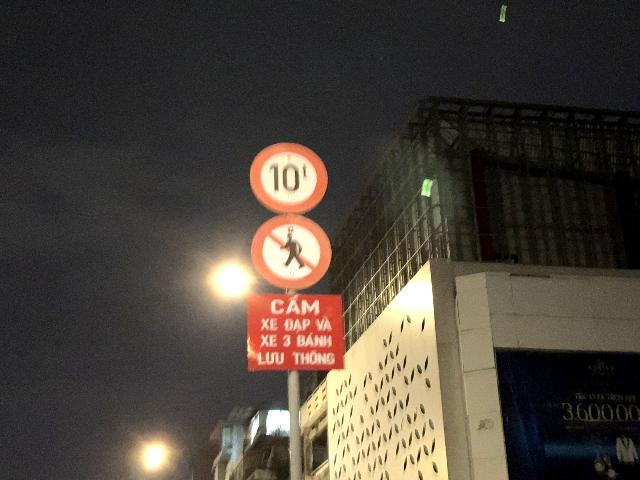cam-nguoi-di-bo: (251, 213, 332, 290)
han-che-trong-luong-xe: (249, 141, 327, 214)
